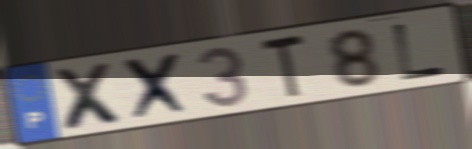3: (193, 44, 251, 112)
8: (323, 26, 385, 90)
L: (390, 20, 450, 83)
T: (258, 31, 309, 103)
X: (50, 60, 131, 133), (120, 48, 195, 125)
